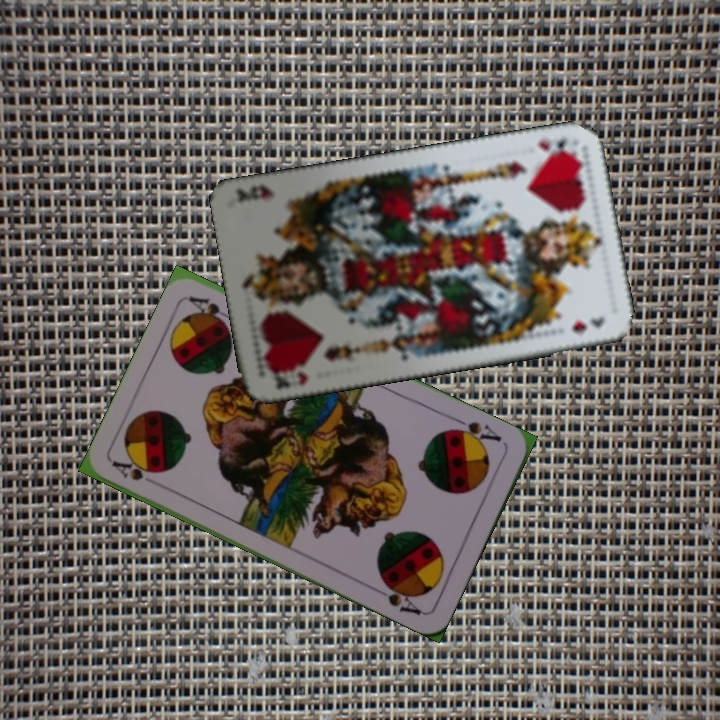HK: (266, 361, 312, 393), (533, 134, 579, 160)
SA: (446, 414, 504, 450), (108, 456, 160, 484)
